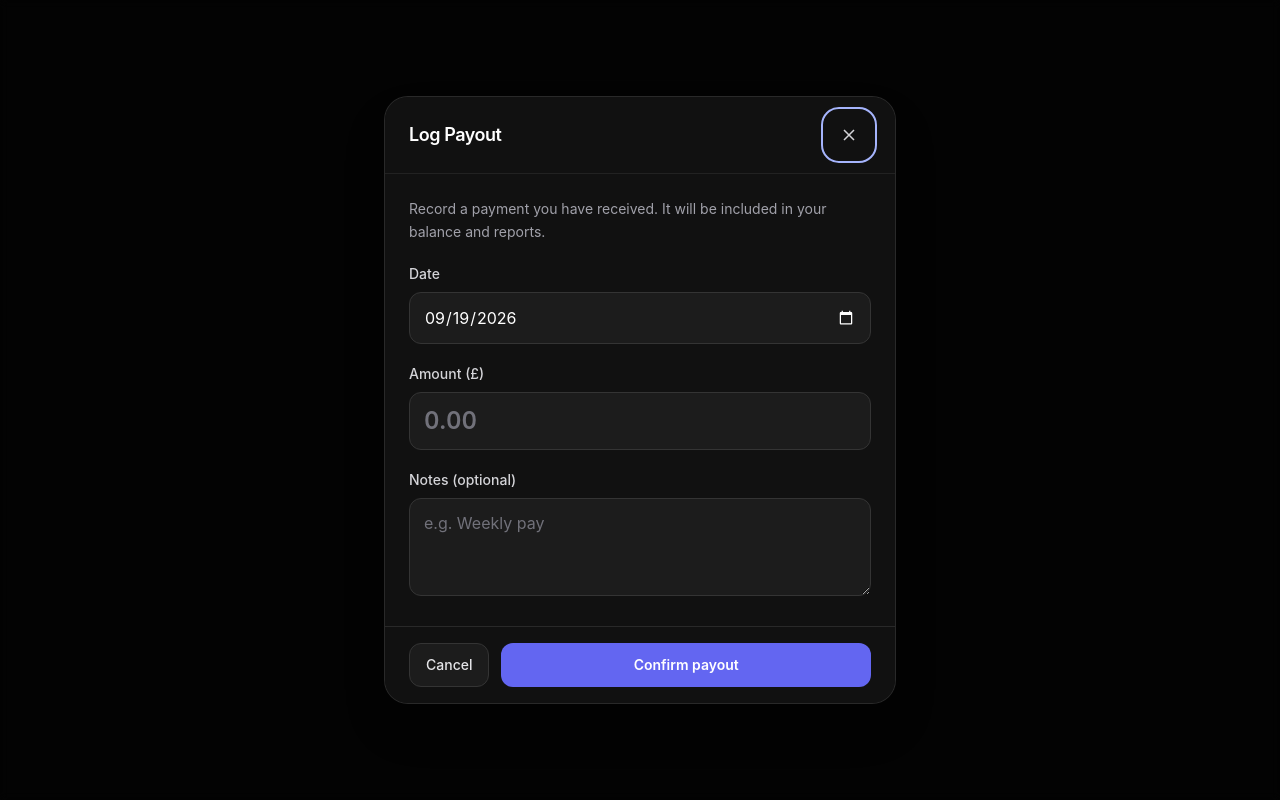
Scenario: payout form › blocks an empty date without writing a payment
This screenshot has width=1280, height=800.
Type "200" into the number field labelled "Amount (£)" at {"x": 640, "y": 421}, box [409,392,871,450]
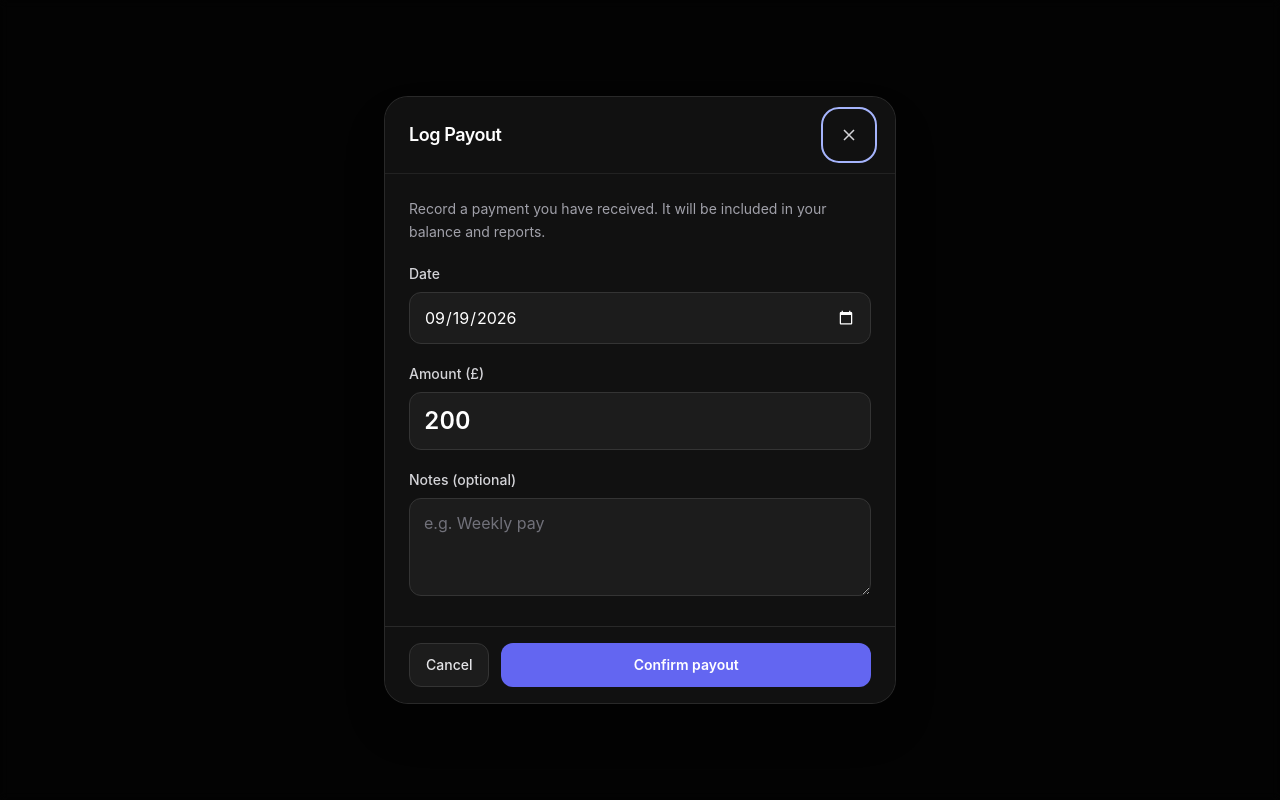
Clear the date field labelled "Date" at {"x": 640, "y": 318}, box [409,292,871,344]
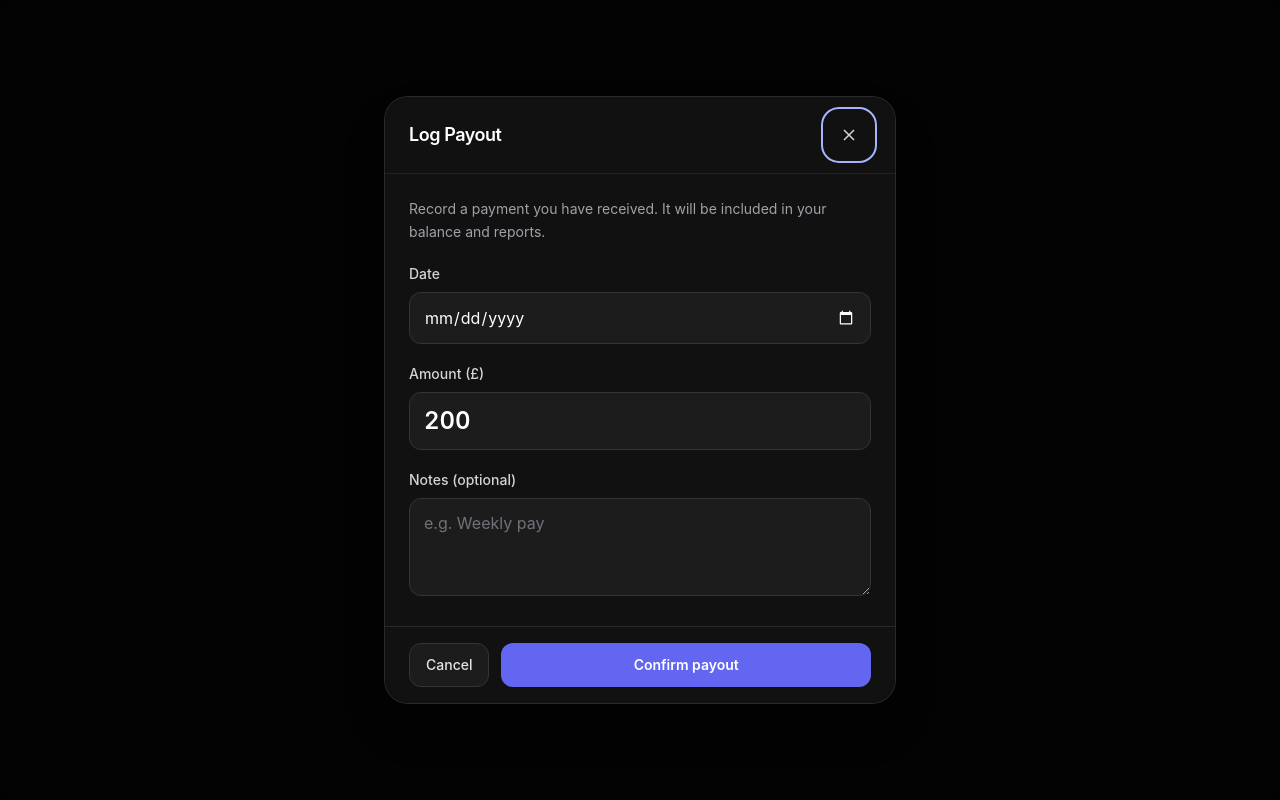
Click the button "Confirm payout" at {"x": 686, "y": 665}, box [502,643,871,687]
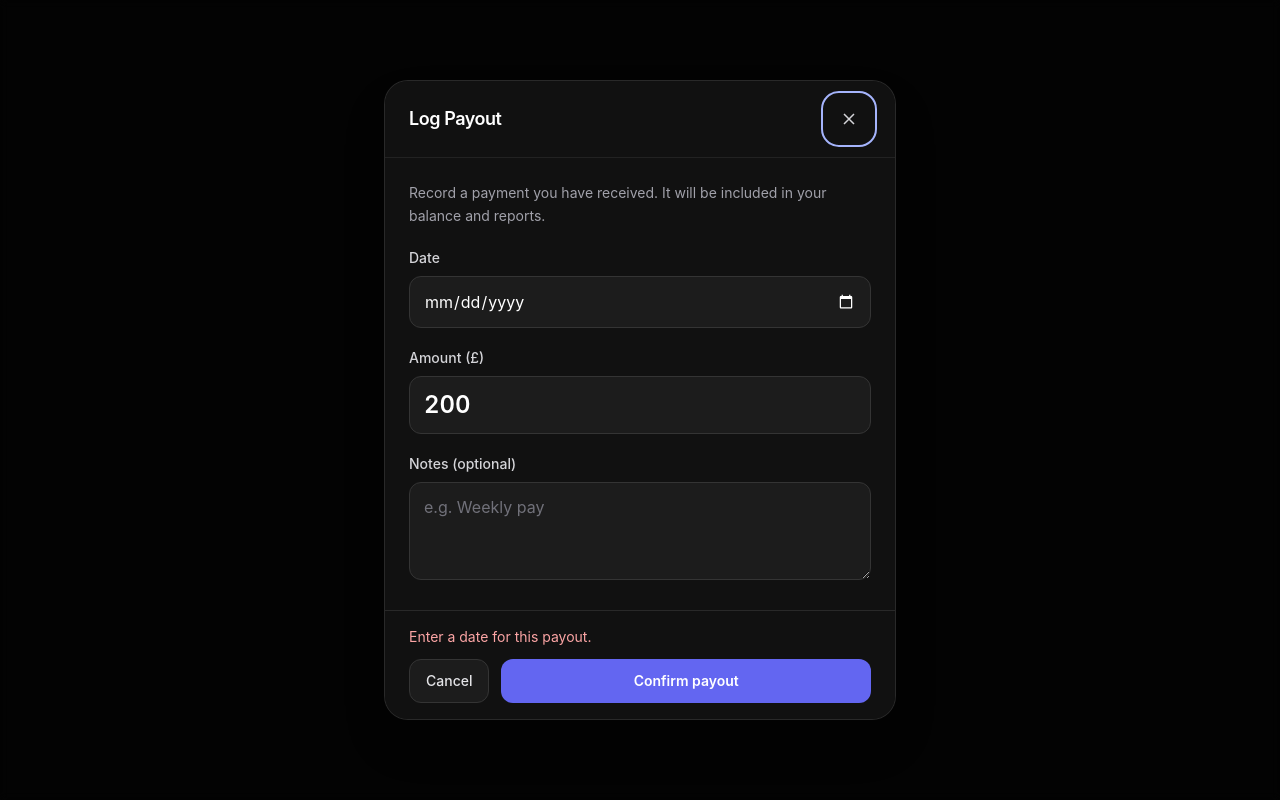
Now the message shows "date", box [409,628,592,645]
